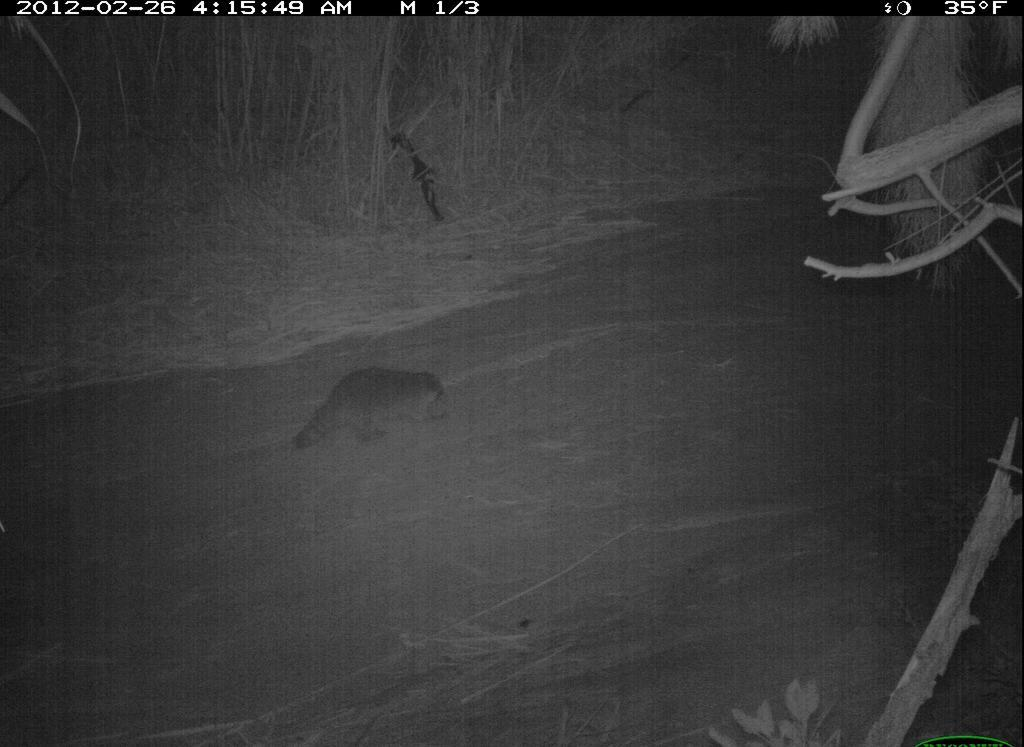raccoon: (286, 363, 454, 455)
